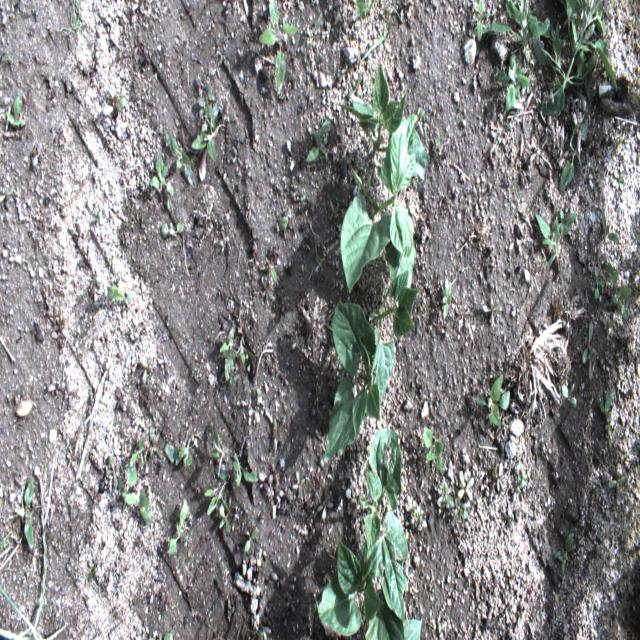crop: (339, 108, 431, 293), (312, 534, 422, 639), (532, 0, 618, 119), (324, 299, 381, 463), (368, 245, 421, 410), (346, 424, 409, 558), (338, 53, 408, 166), (485, 0, 550, 57)
weed: (0, 455, 70, 639), (257, 0, 300, 92), (203, 423, 236, 532), (218, 320, 256, 398), (536, 207, 578, 270), (361, 3, 403, 63), (475, 372, 512, 436), (556, 118, 588, 188), (120, 465, 153, 527), (495, 55, 530, 112), (605, 264, 631, 322), (421, 424, 447, 481), (149, 155, 175, 212), (166, 133, 193, 186), (168, 496, 188, 555), (579, 319, 597, 383), (306, 116, 330, 164), (199, 82, 221, 133), (190, 130, 217, 168), (5, 90, 26, 138), (165, 437, 198, 466), (468, 3, 491, 42), (553, 530, 572, 577), (23, 476, 35, 550), (59, 1, 82, 36), (102, 86, 129, 115), (305, 11, 323, 52), (106, 275, 132, 301), (234, 460, 258, 488), (608, 466, 629, 496), (598, 386, 615, 423), (592, 263, 608, 302), (602, 210, 620, 244), (457, 468, 474, 503), (348, 72, 368, 100), (446, 496, 469, 520), (557, 382, 577, 409), (159, 218, 185, 238), (354, 0, 378, 21), (440, 279, 453, 317), (603, 419, 620, 447), (85, 553, 99, 585), (260, 275, 276, 303), (243, 526, 258, 555), (0, 183, 15, 209), (316, 484, 328, 516), (292, 471, 306, 497), (596, 157, 607, 190), (128, 440, 146, 460), (149, 429, 161, 458), (610, 133, 629, 151), (610, 167, 623, 193), (494, 462, 505, 492), (109, 454, 118, 488), (255, 621, 272, 639), (552, 297, 563, 323), (146, 629, 174, 639), (412, 504, 421, 534), (263, 265, 278, 283), (516, 469, 528, 491), (280, 207, 290, 232), (142, 358, 151, 384), (272, 572, 286, 588), (280, 486, 292, 504), (271, 419, 278, 449), (485, 301, 501, 314), (286, 593, 296, 613), (631, 225, 640, 247), (503, 512, 515, 528), (56, 308, 65, 328), (8, 388, 20, 402), (1, 50, 12, 64), (255, 386, 262, 405), (314, 255, 324, 268), (94, 210, 101, 224), (434, 134, 440, 149), (561, 319, 569, 330), (587, 600, 594, 612), (517, 604, 523, 617), (441, 487, 446, 502), (188, 555, 195, 565), (532, 425, 537, 438), (299, 194, 307, 202), (190, 364, 196, 374), (237, 628, 241, 640)
